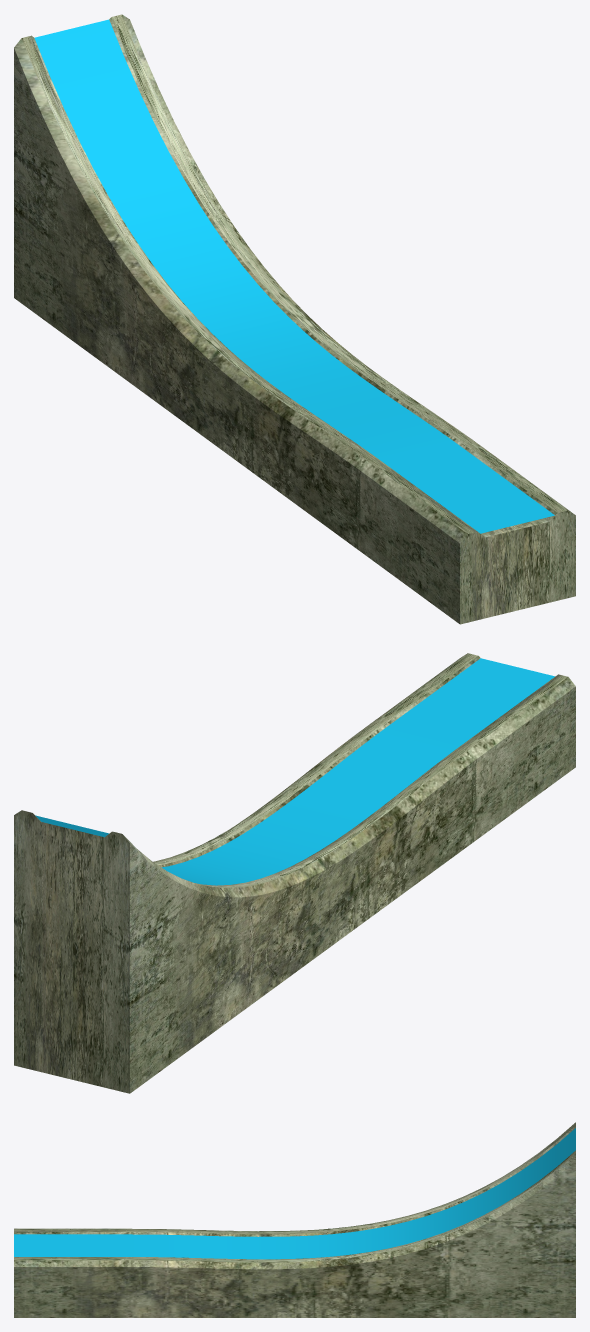
The model's file is waterduct1.FBX.
3 views of the same model, one above another, from view 1: azimuth 30°, elevation 25°; view 2: azimuth 150°, elevation 25°; view 3: azimuth 270°, elevation 25° (orthographic). The views are drawn at different scales.
Visible parts, largest first — view 1: Box002, waterplane; view 2: Box002, waterplane; view 3: Box002, waterplane.
Boxes of the visible parts, x1,y1,x2,y2 form: Box002: (14, 14, 575, 624); waterplane: (34, 19, 554, 533); Box002: (14, 653, 575, 1093); waterplane: (35, 658, 554, 885); Box002: (14, 1122, 575, 1317); waterplane: (14, 1128, 575, 1259).
Size of the model in its own units: 150 by 319 by 1000.
3 materials, 2 textured.
